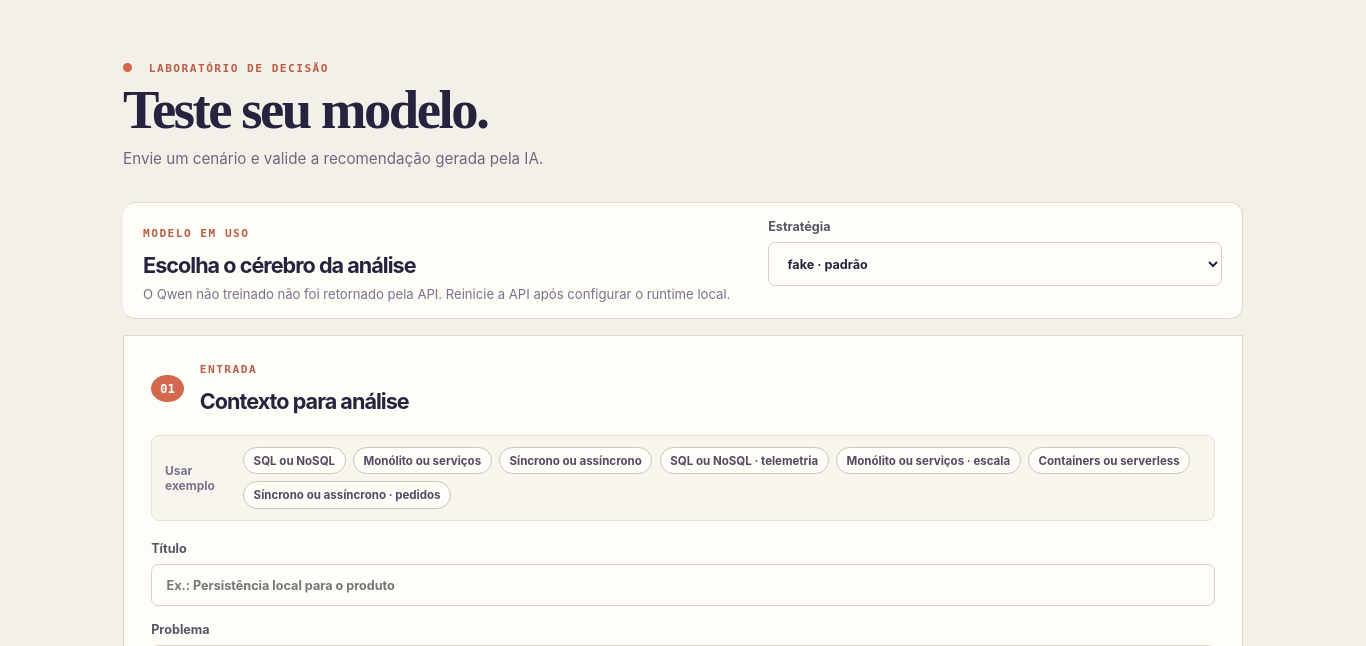
Scenario: AnalysisFlow › preenche o cenário com um exemplo selecionado
The image size is (1366, 646).
Click the button "SQL ou NoSQL" at point(294, 461), box x1=243 y1=447 x2=346 y2=474
(page scrolled)
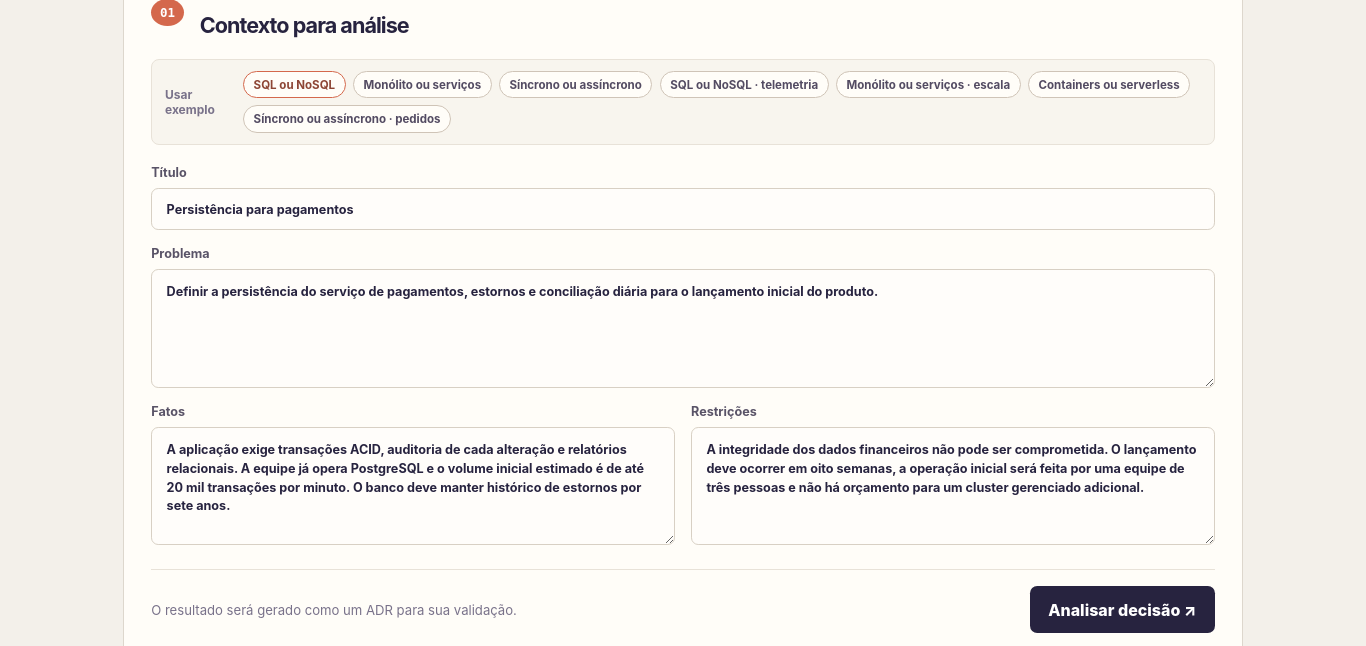
Expected: the field labelled "Título" holds "Persistência para pagamentos", x1=151 y1=188 x2=1215 y2=230
Expected: the text box labelled "Problema" holds "Definir a persistência do serviço de pagamentos, estornos e conciliação diária para o lançamento inicial do produto.", x1=151 y1=269 x2=1215 y2=388
Expected: the text box labelled "Fatos" holds "A aplicação exige transações ACID, auditoria de cada alteração e relatórios relacionais. A equipe já opera PostgreSQL e o volume inicial estimado é de até 20 mi", x1=151 y1=427 x2=675 y2=545
